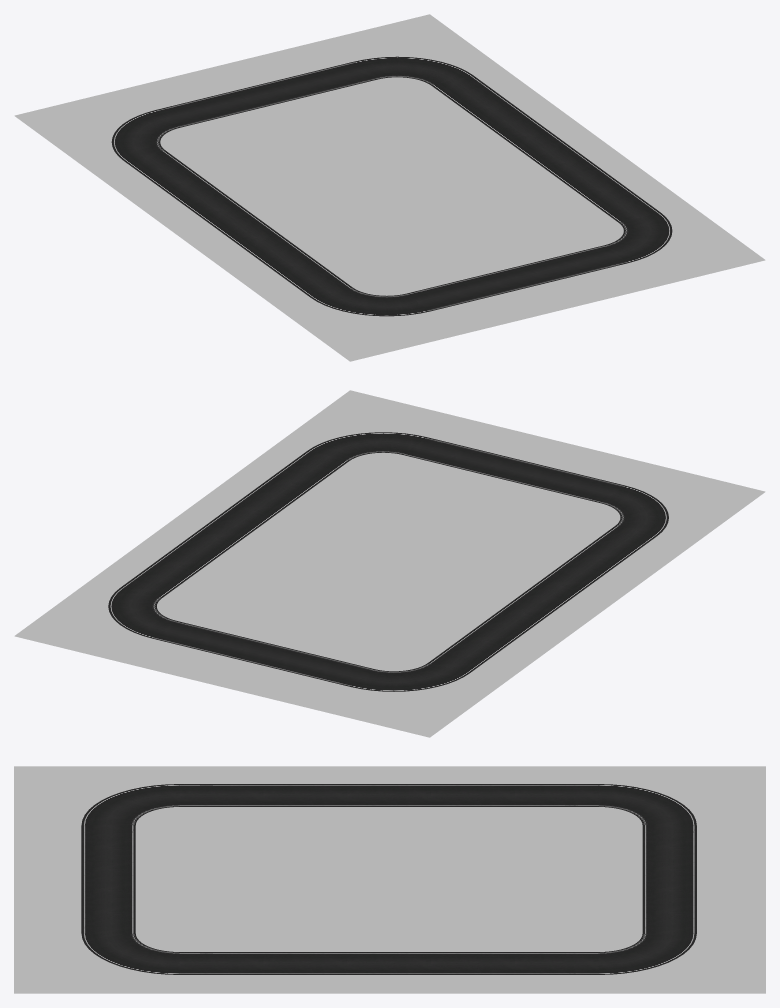
The model's file is track.FBX.
3 renders of one model, top to bottom at view 1: azimuth 30°, elevation 25°; view 2: azimuth 150°, elevation 25°; view 3: azimuth 270°, elevation 25°, orthographic. The views are drawn at different scales.
Parts seen in each view (by area): view 1: Plane021, Plane002; view 2: Plane021, Plane002; view 3: Plane021, Plane002.
Boxes of the visible parts, x1,y1,x2,y2 form: Plane021: [14, 14, 765, 361]; Plane002: [111, 56, 672, 316]; Plane021: [14, 390, 765, 737]; Plane002: [108, 432, 668, 691]; Plane021: [14, 766, 765, 993]; Plane002: [81, 784, 696, 974].
Size of the model in its own units: 266 by 0.776 by 373.
